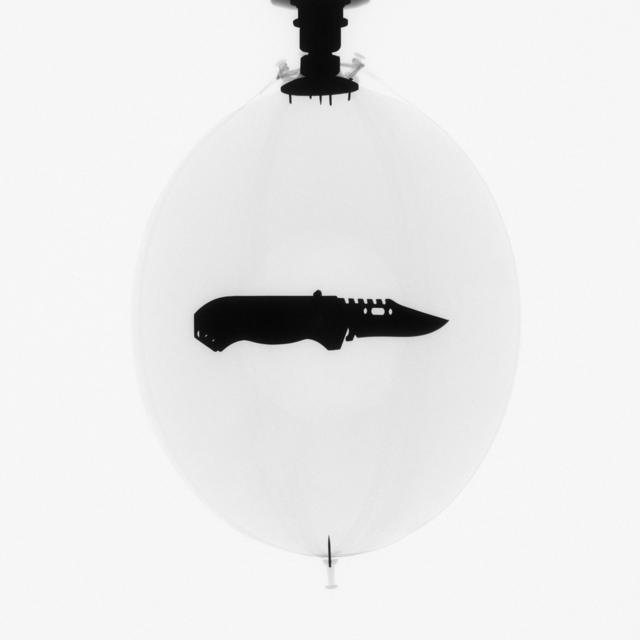knife: (188, 270, 452, 366)
